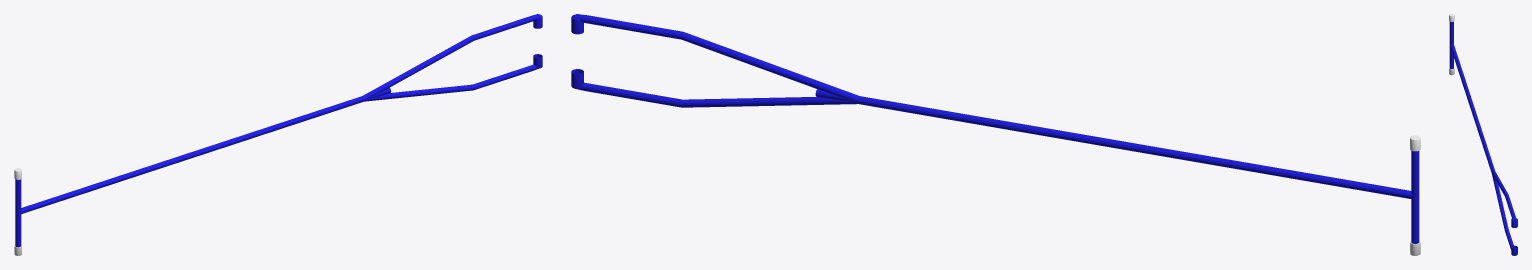
The model's file is towbarblend.gltf.
3 views of the same model, side by side, from view 1: azimuth 30°, elevation 25°; view 2: azimuth 150°, elevation 25°; view 3: azimuth 270°, elevation 25° (orthographic). The views are drawn at different scales.
Parts seen in each view (by area): view 1: Towbar; view 2: Towbar; view 3: Towbar.
Part boxes in pixels (x1,y1,x2,y2): Towbar: (14,14,542,255); Towbar: (571,14,1420,255); Towbar: (1449,14,1517,255).
Size of the model in its own units: 1.41 by 0.2 by 0.2109.
Materials: 2 (1 with a texture image).
